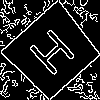H: (27, 26, 84, 85)
